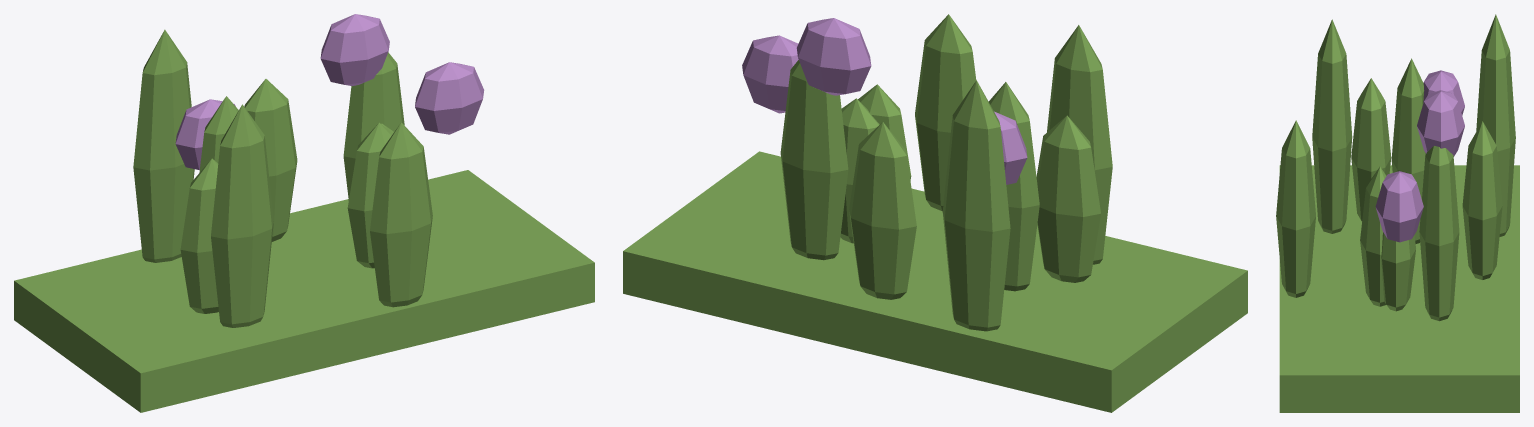
File: GG-VEG-GROUND-COVER-CREEPING-001_LOD_GAMEPLAY.glb
The picture shows the model from 3 angles, left to right: view 1: azimuth 30°, elevation 25°; view 2: azimuth 150°, elevation 25°; view 3: azimuth 270°, elevation 25°; orthographic projection. The views are drawn at different scales.
Visible parts, largest first — view 1: GG_VEG_MOD_BASE_001, GG_VEG_MODULE_7, GG_VEG_MODULE_4, GG_VEG_MODULE_8, GG_VEG_MODULE_3, GG_VEG_MODULE_6, GG_VEG_ACCENT_1, GG_VEG_ACCENT_2, GG_VEG_MODULE_2, GG_VEG_MODULE_9, GG_VEG_ACCENT_3, GG_VEG_MODULE_5; view 2: GG_VEG_MOD_BASE_001, GG_VEG_MODULE_4, GG_VEG_MODULE_2, GG_VEG_MODULE_3, GG_VEG_MODULE_6, GG_VEG_MODULE_8, GG_VEG_MODULE_7, GG_VEG_MODULE_5, GG_VEG_ACCENT_2, GG_VEG_ACCENT_1, GG_VEG_MODULE_1, GG_VEG_MODULE_9 (+1 smaller); view 3: GG_VEG_MOD_BASE_001, GG_VEG_MODULE_7, GG_VEG_MODULE_2, GG_VEG_MODULE_8, GG_VEG_MODULE_3, GG_VEG_MODULE_4, GG_VEG_MODULE_6, GG_VEG_MODULE_5, GG_VEG_ACCENT_1, GG_VEG_MODULE_9, GG_VEG_ACCENT_2, GG_VEG_MODULE_1 (+1 smaller).
Boxes of the visible parts, box(x1,y1,x2,y2) form: GG_VEG_MOD_BASE_001: box(14, 170, 594, 412); GG_VEG_MODULE_7: box(211, 104, 273, 327); GG_VEG_MODULE_4: box(133, 29, 194, 262); GG_VEG_MODULE_8: box(370, 122, 432, 307); GG_VEG_MODULE_3: box(244, 79, 297, 241); GG_VEG_MODULE_6: box(180, 158, 218, 313); GG_VEG_ACCENT_1: box(415, 62, 484, 134); GG_VEG_ACCENT_2: box(320, 14, 389, 85); GG_VEG_MODULE_2: box(343, 52, 404, 200); GG_VEG_MODULE_9: box(347, 122, 392, 268); GG_VEG_ACCENT_3: box(175, 99, 235, 169); GG_VEG_MODULE_5: box(199, 96, 238, 172); GG_VEG_MOD_BASE_001: box(623, 151, 1247, 412); GG_VEG_MODULE_4: box(942, 80, 1010, 331); GG_VEG_MODULE_2: box(780, 60, 848, 260); GG_VEG_MODULE_3: box(849, 122, 916, 299); GG_VEG_MODULE_6: box(1036, 115, 1100, 282); GG_VEG_MODULE_8: box(915, 14, 976, 211); GG_VEG_MODULE_7: box(1047, 25, 1112, 264); GG_VEG_MODULE_5: box(988, 82, 1039, 291); GG_VEG_ACCENT_2: box(796, 18, 871, 95); GG_VEG_ACCENT_1: box(742, 35, 798, 113); GG_VEG_MODULE_1: box(840, 98, 879, 243); GG_VEG_MODULE_9: box(858, 84, 911, 180); GG_VEG_MOD_BASE_001: box(1279, 165, 1519, 412); GG_VEG_MODULE_7: box(1312, 19, 1352, 233); GG_VEG_MODULE_2: box(1419, 146, 1459, 321); GG_VEG_MODULE_8: box(1276, 120, 1315, 297); GG_VEG_MODULE_3: box(1462, 121, 1502, 279); GG_VEG_MODULE_4: box(1476, 14, 1515, 236); GG_VEG_MODULE_6: box(1351, 78, 1391, 221); GG_VEG_MODULE_5: box(1391, 58, 1425, 243); GG_VEG_ACCENT_1: box(1375, 171, 1423, 242); GG_VEG_MODULE_9: box(1360, 167, 1386, 306); GG_VEG_ACCENT_2: box(1417, 90, 1464, 156); GG_VEG_MODULE_1: box(1381, 232, 1415, 311).
Bounding box in the file's own units: 0.72 × 0.4037 × 0.353.
